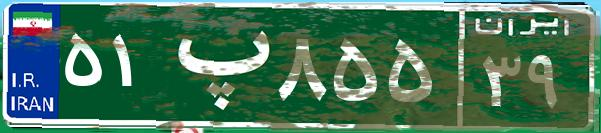1: (110, 28, 158, 105)
3: (475, 38, 525, 113)
5: (385, 28, 445, 110), (330, 28, 385, 110), (57, 26, 110, 107)
8: (273, 28, 330, 110)
9: (525, 38, 570, 115)
پ: (158, 15, 273, 115)
